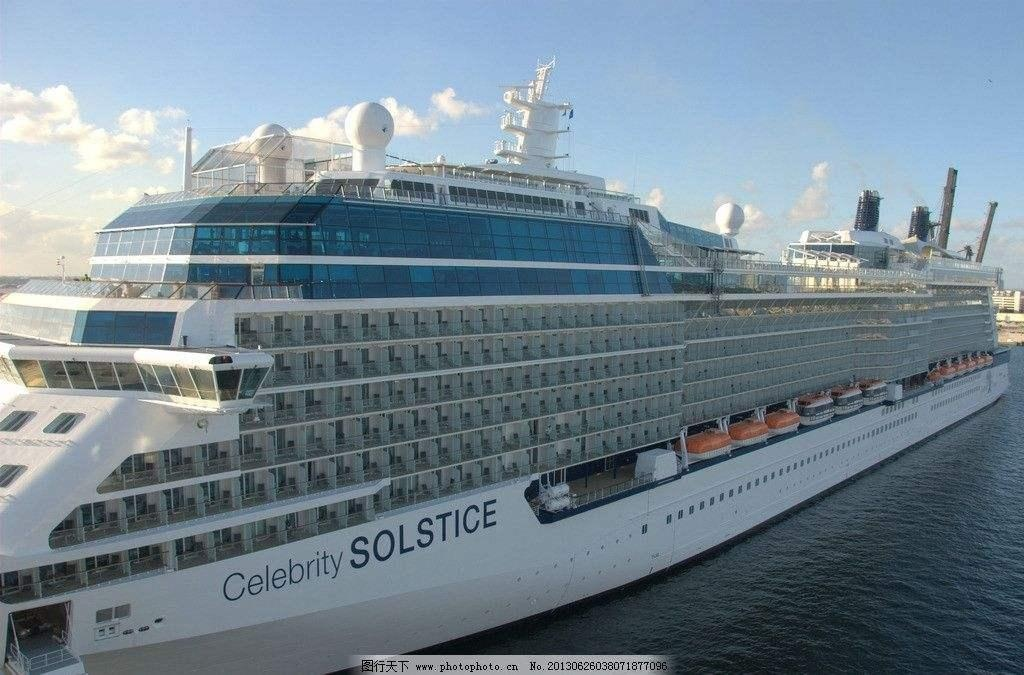youlun: (1, 51, 1024, 673)
